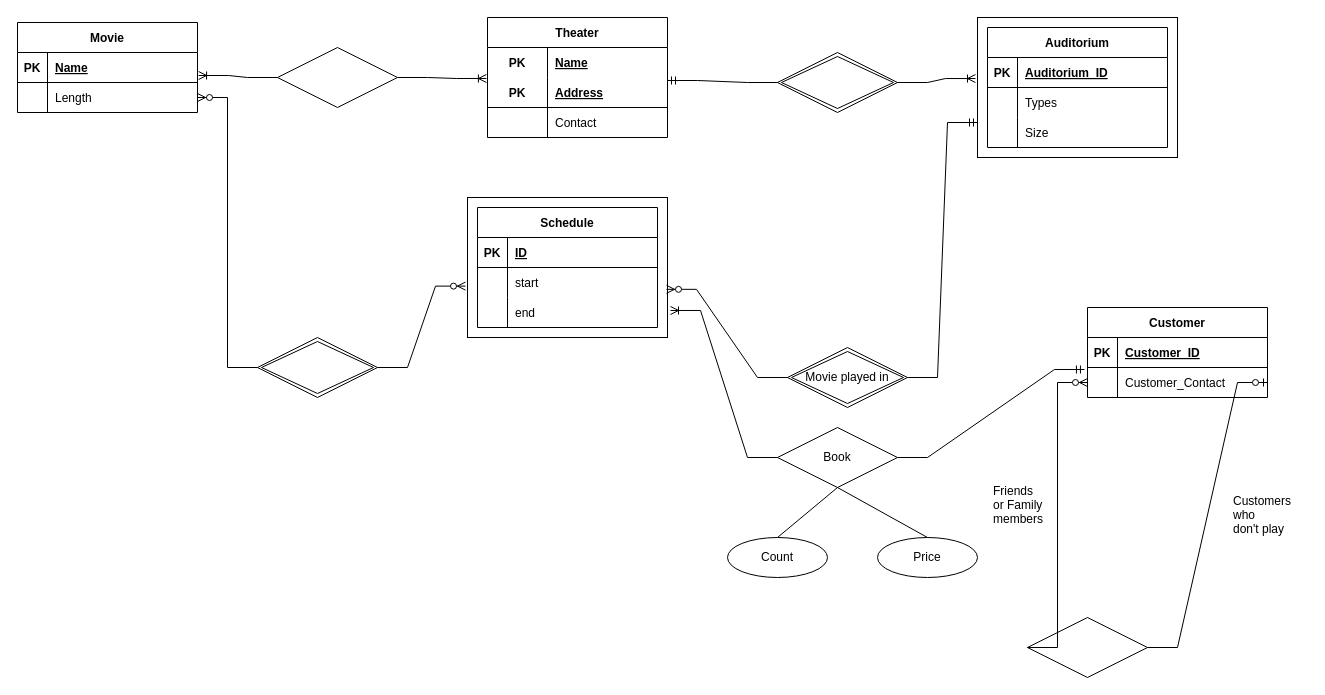
This 1325x695 diagram has some shape labels left out. The centre of each missing label's shape, as x and y in pixels:
"Belong to" goes at pixel 837 82.
"Connect" goes at pixel 1087 647.
"Display" goes at pixel 337 77.
"Played" goes at pixel 317 367.
